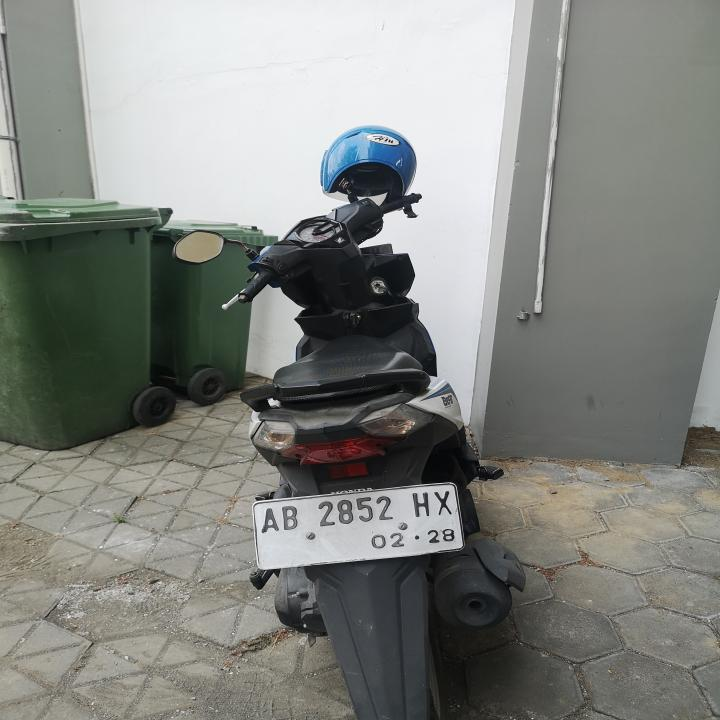plate: (253, 478, 469, 574)
